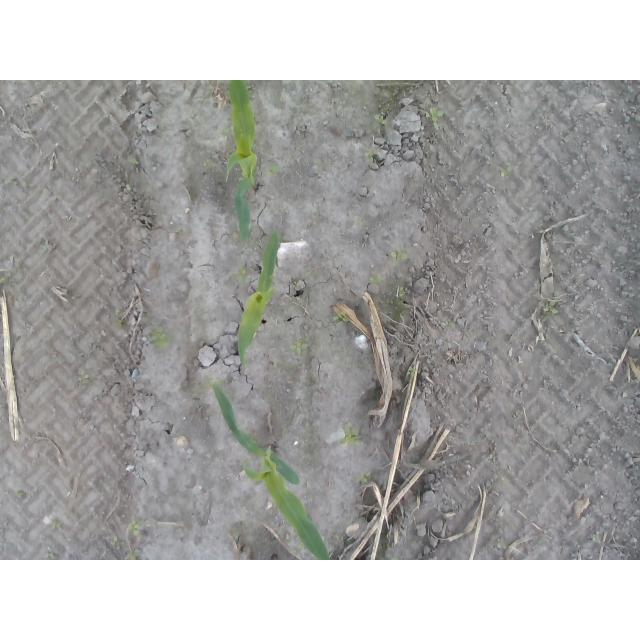Maize: (211, 384, 331, 561), (238, 230, 282, 373), (227, 81, 262, 247)
Weeds: (390, 286, 412, 323), (424, 108, 446, 129), (151, 327, 171, 350), (340, 425, 360, 447), (540, 300, 560, 320), (392, 249, 409, 268), (114, 307, 127, 330), (130, 521, 147, 536), (290, 341, 307, 355), (264, 166, 281, 179), (356, 471, 370, 485), (335, 309, 348, 323), (366, 149, 383, 159), (373, 112, 387, 124), (77, 370, 91, 382), (125, 548, 139, 560), (45, 548, 59, 560), (40, 241, 52, 253), (500, 166, 512, 177), (370, 275, 384, 284), (406, 365, 417, 375), (54, 517, 63, 528), (16, 490, 27, 498), (129, 158, 140, 166), (124, 184, 133, 193), (222, 128, 231, 137), (202, 158, 210, 166), (0, 275, 4, 284)
